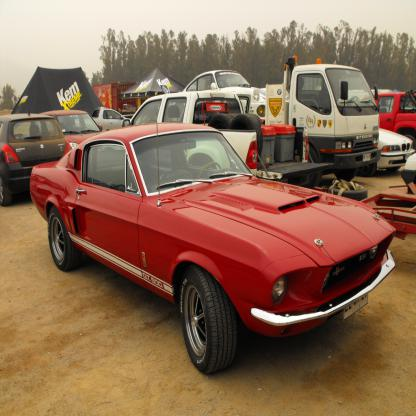Car: (0, 70, 415, 374)
Truck: (230, 52, 379, 182)
